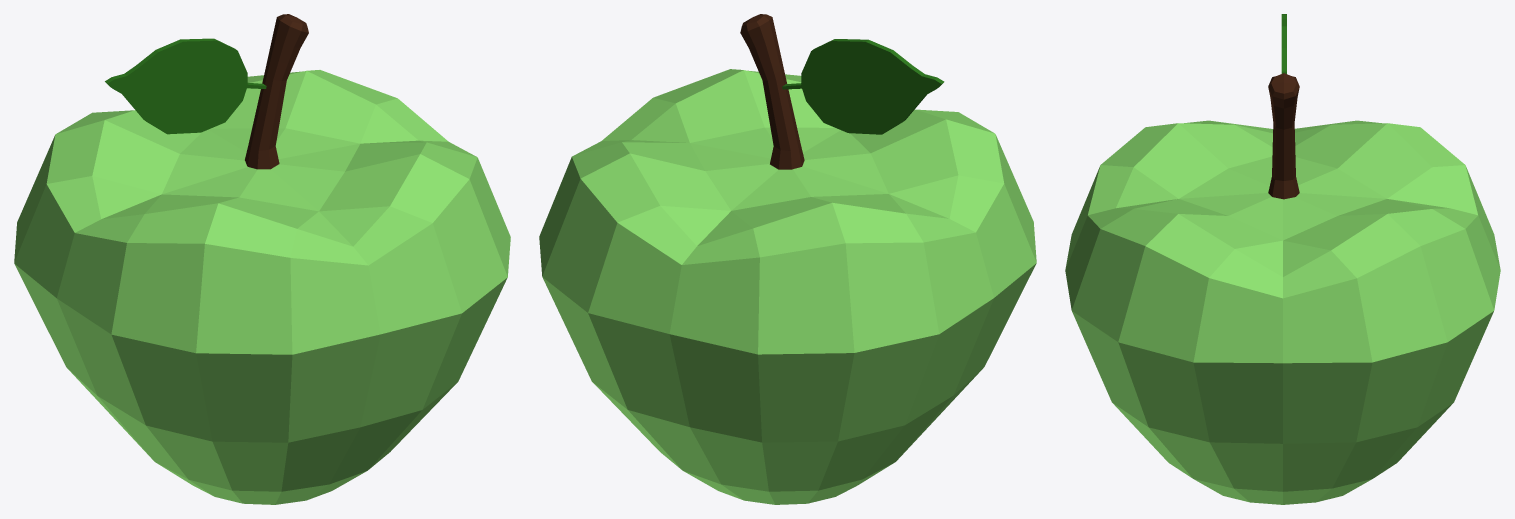
Rendered from Apple_Green.obj.
3 views of the same model, side by side, from view 1: azimuth 30°, elevation 25°; view 2: azimuth 150°, elevation 25°; view 3: azimuth 270°, elevation 25° (orthographic). The views are drawn at different scales.
Visible parts, largest first — view 1: Apple_Green_PaleGreen, Apple_Green_DarkGreen, Apple_Green_DarkBrown; view 2: Apple_Green_PaleGreen, Apple_Green_DarkGreen, Apple_Green_DarkBrown; view 3: Apple_Green_PaleGreen, Apple_Green_DarkBrown.
Boxes of the visible parts, <box> form: Apple_Green_PaleGreen: <box>14,70,510,504</box>; Apple_Green_DarkGreen: <box>105,38,266,134</box>; Apple_Green_DarkBrown: <box>245,14,308,169</box>; Apple_Green_PaleGreen: <box>539,69,1036,504</box>; Apple_Green_DarkGreen: <box>782,39,944,134</box>; Apple_Green_DarkBrown: <box>740,14,804,169</box>; Apple_Green_PaleGreen: <box>1065,120,1500,504</box>; Apple_Green_DarkBrown: <box>1268,73,1299,199</box>.
Bounding box in the file's own units: 0.8025 × 0.8517 × 0.7987.
